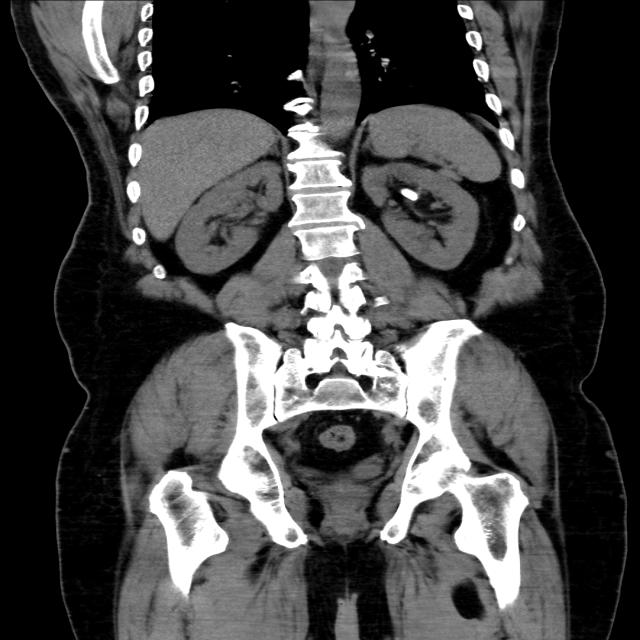kidneystone: (399, 188, 419, 201)
